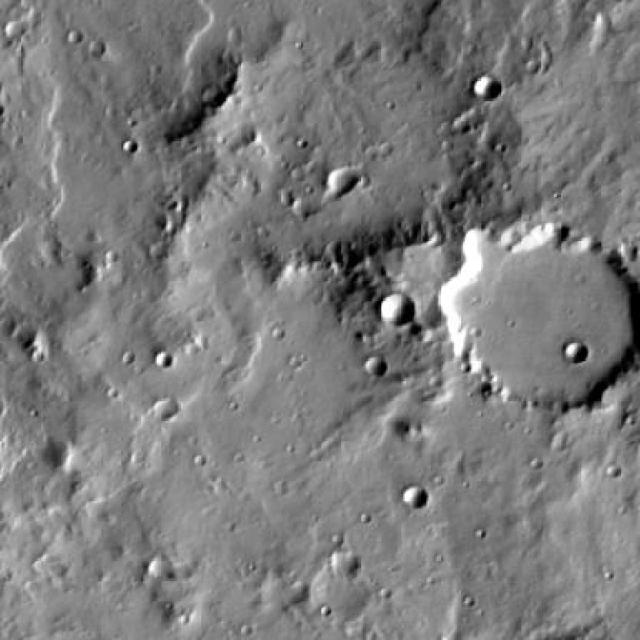crater: (435, 231, 640, 412), (377, 292, 414, 326), (324, 166, 359, 197), (473, 75, 501, 99), (331, 552, 358, 576), (148, 560, 172, 582), (402, 487, 426, 507), (564, 343, 588, 363), (365, 355, 387, 374), (158, 400, 178, 417), (620, 242, 638, 258), (122, 139, 138, 153)
